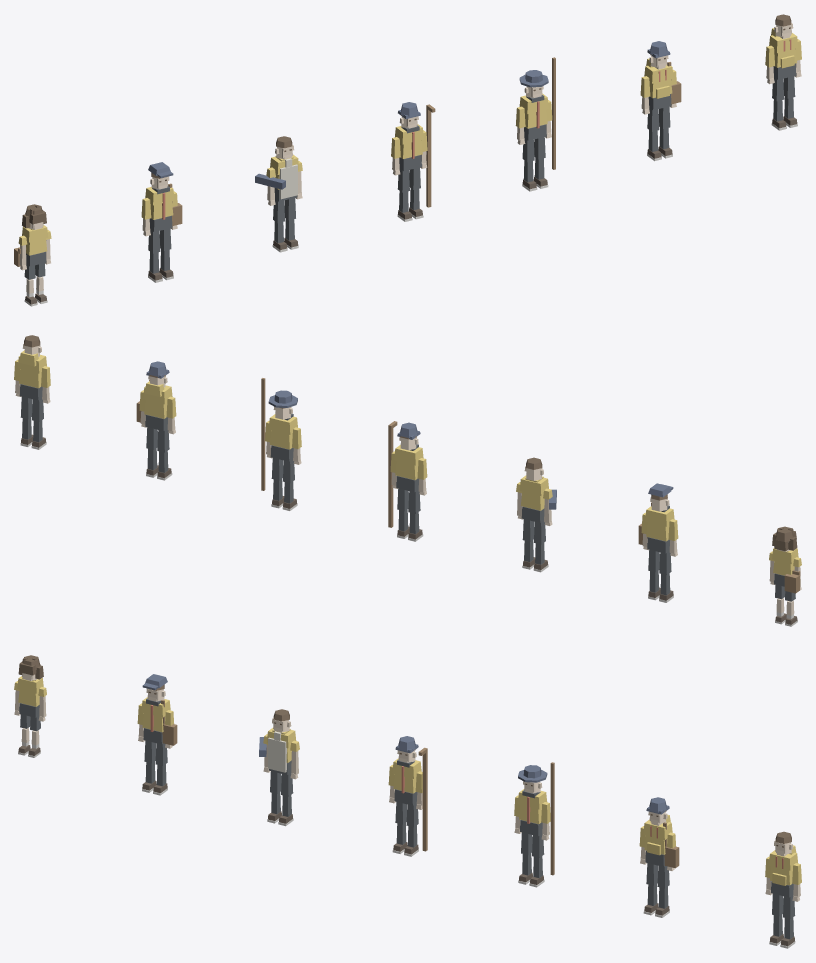
File: characters.glb
3 views of the same model, one above another, from view 1: azimuth 30°, elevation 25°; view 2: azimuth 150°, elevation 25°; view 3: azimuth 330°, elevation 25° (orthographic).
Parts seen in each view (by area): view 1: Villager_Shepherd, Villager_Fisher, Villager_Artist, Villager_Postmaster, Villager_Baker, Villager_Keeper, Courier, Villager_Fisher.HEAD, Villager_Baker.LEG_L, Villager_Keeper.LEG_L, Villager_Shepherd.LEG_L, Villager_Fisher.LEG_L (+8 smaller); view 2: Villager_Shepherd, Villager_Fisher, Villager_Artist, Villager_Baker, Villager_Postmaster, Villager_Keeper, Courier, Villager_Fisher.HEAD, Villager_Shepherd.LEG_L, Villager_Artist.LEG_L, Villager_Fisher.LEG_L, Villager_Keeper.LEG_L (+9 smaller); view 3: Villager_Shepherd, Villager_Fisher, Villager_Artist, Villager_Postmaster, Villager_Baker, Villager_Keeper, Courier, Villager_Shepherd.LEG_R, Villager_Baker.LEG_R, Villager_Fisher.LEG_R, Villager_Keeper.LEG_R, Villager_Fisher.HEAD (+8 smaller).
Boxes of the visible parts, box(x1,y1,x2,y2) form: Villager_Shepherd: box(395, 104, 435, 207); Villager_Fisher: box(519, 57, 555, 169); Villager_Artist: box(644, 58, 681, 110); Villager_Postmaster: box(145, 183, 182, 231); Villager_Baker: box(255, 154, 299, 201); Villager_Keeper: box(769, 28, 798, 79); Courier: box(14, 225, 48, 266); Villager_Fisher.HEAD: box(519, 70, 548, 97); Villager_Baker.LEG_L: box(272, 199, 287, 252); Villager_Keeper.LEG_L: box(771, 77, 786, 130); Villager_Shepherd.LEG_L: box(397, 169, 412, 221); Villager_Fisher.LEG_L: box(522, 138, 537, 191); Villager_Shepherd: box(388, 421, 423, 527); Villager_Fisher: box(261, 378, 297, 490); Villager_Artist: box(136, 380, 172, 430); Villager_Baker: box(519, 475, 556, 522); Villager_Postmaster: box(638, 502, 674, 553); Villager_Keeper: box(17, 350, 46, 400); Courier: box(772, 548, 800, 593); Villager_Fisher.HEAD: box(268, 390, 297, 419); Villager_Shepherd.LEG_L: box(408, 490, 423, 541); Villager_Artist.LEG_L: box(157, 428, 172, 480); Villager_Fisher.LEG_L: box(282, 459, 297, 510); Villager_Keeper.LEG_L: box(31, 398, 46, 449); Villager_Shepherd: box(392, 747, 427, 851); Villager_Fisher: box(517, 762, 554, 875); Villager_Artist: box(643, 814, 679, 868); Villager_Postmaster: box(141, 697, 177, 745); Villager_Baker: box(259, 727, 296, 774); Villager_Keeper: box(768, 845, 798, 897); Courier: box(17, 676, 43, 717); Villager_Shepherd.LEG_R: box(404, 803, 418, 856); Villager_Baker.LEG_R: box(278, 772, 293, 826); Villager_Fisher.LEG_R: box(529, 834, 544, 887); Villager_Keeper.LEG_R: box(780, 895, 795, 948); Villager_Fisher.HEAD: box(518, 765, 547, 793).
Size of the model in its own units: 12.52 by 1.88 by 0.487.
